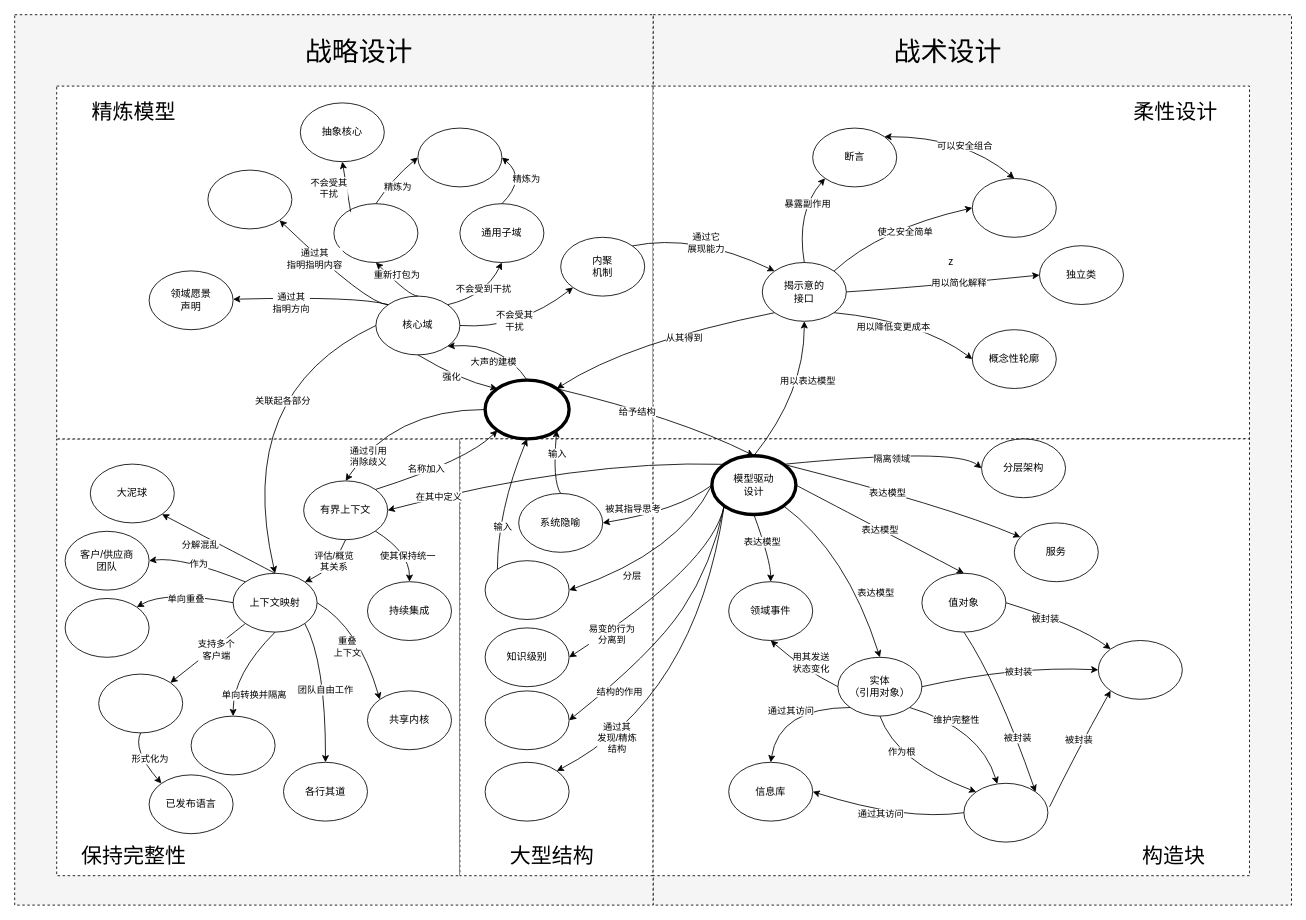
The diagram is 1306 pixels wide and 920 high, and some of its shapes have lost their labels. The shapes that lost their labels are listed below. From the top down, each one's centre as x and y in pixels, then its label:
At (459,157): "声明式风格".
At (249,199): "高亮核心".
At (1013,207): "无副作用的 函数".
At (375,232): "支撑核心".
At (526,409): "通用语言".
At (526,590): "责任层".
At (106,627): "追随者".
At (1139,669): "工厂".
At (140,703): "开放主机服务".
At (526,720): "可插拔组件框架".
At (232,745): "防腐层".
At (526,791): "演进秩序".
At (1005,812): "聚合".
